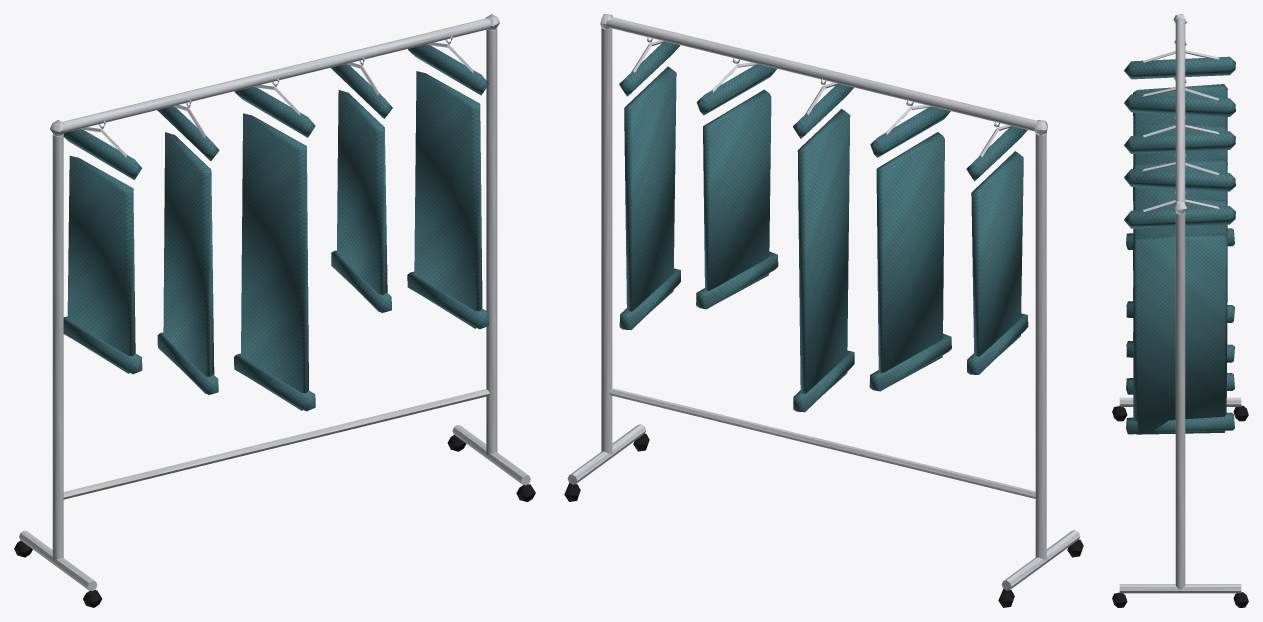
The model's file is arara-16-5-leve.glb.
3 renders of one model, left to right at view 1: azimuth 30°, elevation 25°; view 2: azimuth 150°, elevation 25°; view 3: azimuth 270°, elevation 25°, orthographic. The views are drawn at different scales.
Parts seen in each view (by area): view 1: corpo.002, corpo.004, corpo, corpo.001, corpo.003, varao, coluna, coluna.001, travessa, ombros.004, ombros.002, ombros (+9 smaller); view 2: corpo.001, corpo.002, corpo.003, corpo.004, corpo, varao, coluna, coluna.001, travessa, ombros.003, ombros.001, barra.003 (+9 smaller); view 3: corpo.004, coluna.001, varao, ombros.002, ombros.001, ombros.003, ombros, ombros.004, corpo.003, corpo.001, corpo.002, corpo (+7 smaller).
Part boxes in pixels (bbox=[...]): corpo.002: bbox=[241, 113, 308, 410]; corpo.004: bbox=[414, 71, 482, 328]; corpo: bbox=[67, 155, 135, 373]; corpo.001: bbox=[163, 132, 214, 393]; corpo.003: bbox=[337, 90, 387, 312]; varao: bbox=[62, 18, 490, 132]; coluna: bbox=[52, 134, 63, 561]; coluna.001: bbox=[486, 28, 497, 455]; travessa: bbox=[63, 389, 489, 499]; ombros.004: bbox=[408, 44, 488, 95]; ombros.002: bbox=[234, 86, 315, 137]; ombros: bbox=[63, 129, 141, 179]; corpo.001: bbox=[876, 132, 944, 383]; corpo.002: bbox=[797, 108, 850, 393]; corpo.003: bbox=[703, 89, 771, 302]; corpo.004: bbox=[624, 66, 676, 311]; corpo: bbox=[971, 151, 1023, 358]; varao: bbox=[606, 17, 1037, 131]; coluna: bbox=[1035, 133, 1046, 560]; coluna.001: bbox=[601, 27, 612, 454]; travessa: bbox=[608, 388, 1035, 498]; ombros.003: bbox=[696, 64, 776, 115]; ombros.001: bbox=[870, 106, 950, 157]; barra.003: bbox=[696, 251, 778, 309]; corpo.004: bbox=[1133, 233, 1227, 434]; coluna.001: bbox=[1175, 212, 1185, 589]; varao: bbox=[1175, 18, 1185, 204]; ombros.002: bbox=[1124, 131, 1235, 153]; ombros.001: bbox=[1124, 94, 1235, 116]; ombros.003: bbox=[1124, 169, 1235, 191]; ombros: bbox=[1124, 56, 1235, 79]; ombros.004: bbox=[1124, 206, 1235, 228]; corpo.003: bbox=[1133, 198, 1227, 342]; corpo.001: bbox=[1133, 123, 1227, 303]; corpo.002: bbox=[1133, 158, 1227, 203]; corpo: bbox=[1133, 84, 1227, 129].
Size of the model in its own units: 1.66 by 1.62 by 0.4957.
3 materials, 2 textured.
